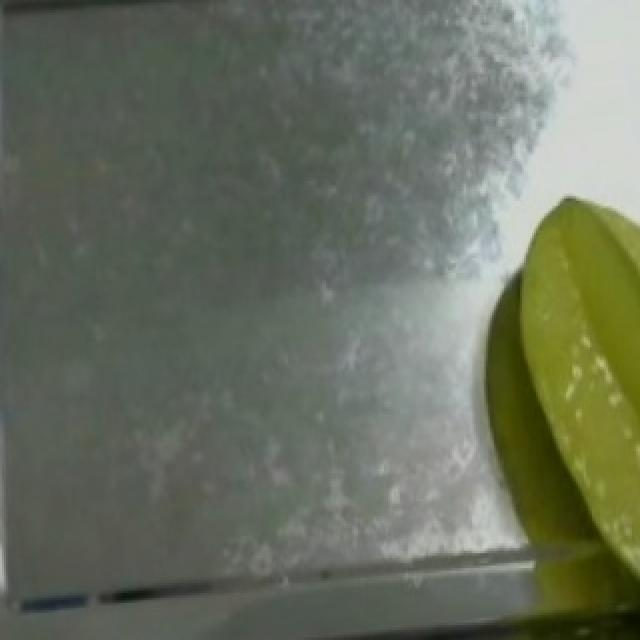fruit: (468, 176, 640, 568)
